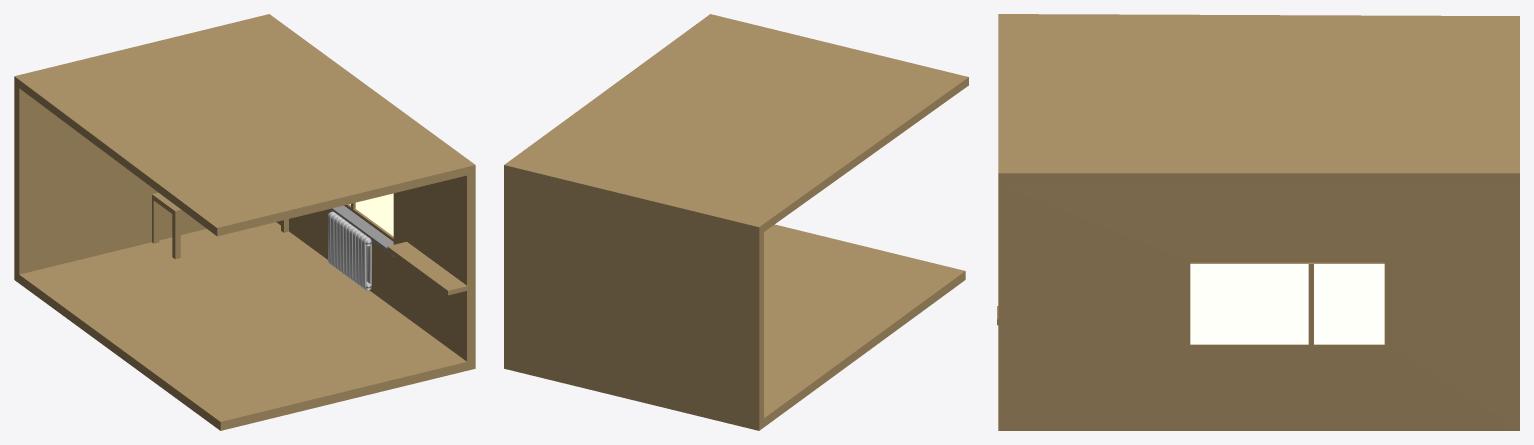
Rendered from Devs room.fbx.
3 views of the same model, side by side, from view 1: azimuth 30°, elevation 25°; view 2: azimuth 150°, elevation 25°; view 3: azimuth 270°, elevation 25° (orthographic). The views are drawn at different scales.
Parts seen in each view (by area): view 1: Room, Radiator, Cupboard, Table; view 2: Room; view 3: Room.
Boxes of the visible parts, box(x1,y1,x2,y2) form: Room: box(14, 14, 475, 430); Radiator: box(328, 211, 371, 290); Cupboard: box(387, 241, 469, 295); Table: box(152, 192, 288, 259); Room: box(504, 14, 968, 430); Room: box(998, 14, 1519, 430).
Bounding box in the file's own units: 1242 × 926 × 1705.
